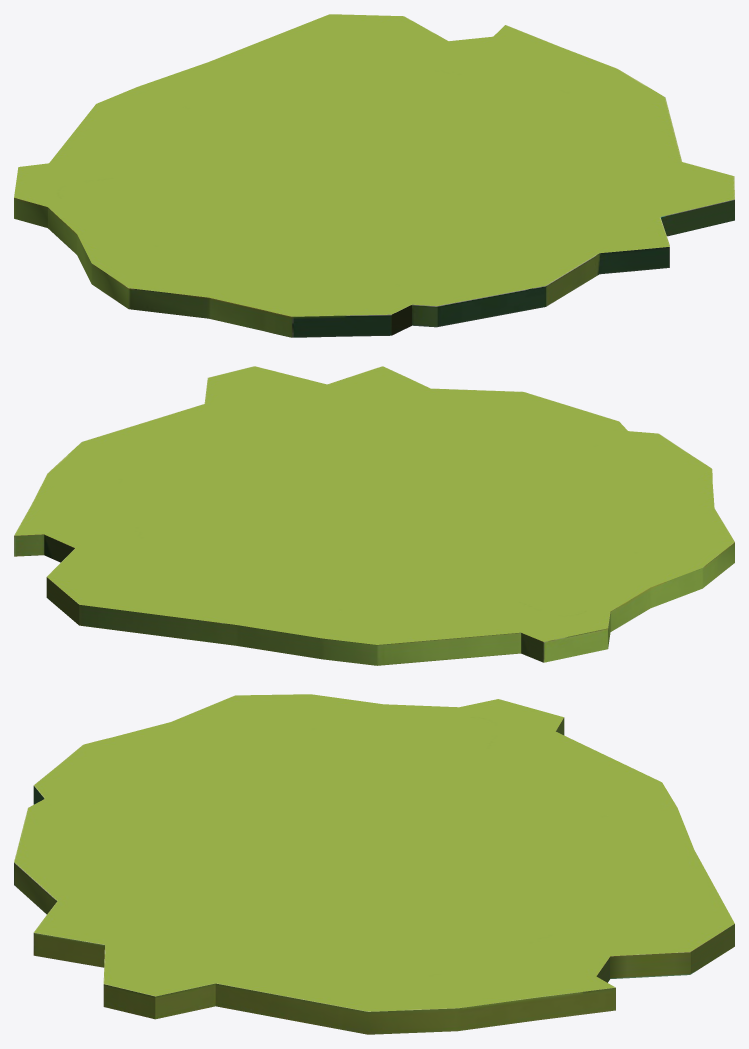
File: hole.gltf.glb
3 renders of one model, top to bottom at view 1: azimuth 30°, elevation 25°; view 2: azimuth 150°, elevation 25°; view 3: azimuth 270°, elevation 25°, orthographic. The views are drawn at different scales.
Visible parts, largest first — view 1: Mesh_0; view 2: Mesh_0; view 3: Mesh_0.
Part boxes in pixels (x1=…): Mesh_0: x1=14, y1=14, x2=734, y2=337; Mesh_0: x1=14, y1=366, x2=734, y2=665; Mesh_0: x1=14, y1=694, x2=734, y2=1034.
Bounding box in the file's own units: 15.83 × 0.6581 × 15.18.
Materials: 1 (1 with a texture image).
